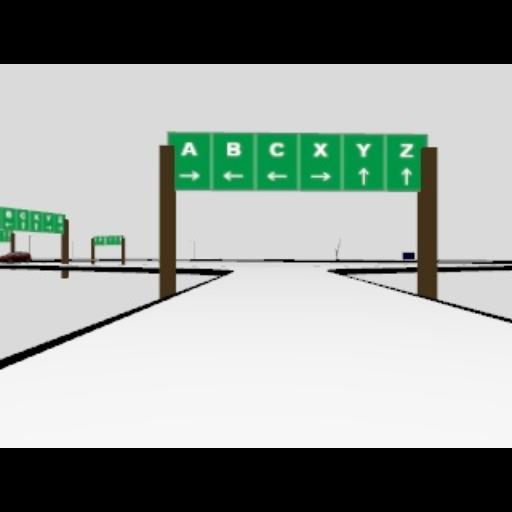A: (181, 141, 197, 155)
B: (226, 141, 240, 155)
C: (267, 141, 285, 157)
Left: (221, 170, 245, 180), (266, 170, 290, 180)
Right: (178, 170, 200, 180), (309, 171, 331, 181)
Straight: (356, 166, 370, 184), (400, 166, 412, 186)
X: (312, 141, 328, 157)
Y: (355, 143, 369, 157)
Z: (399, 143, 413, 157)
